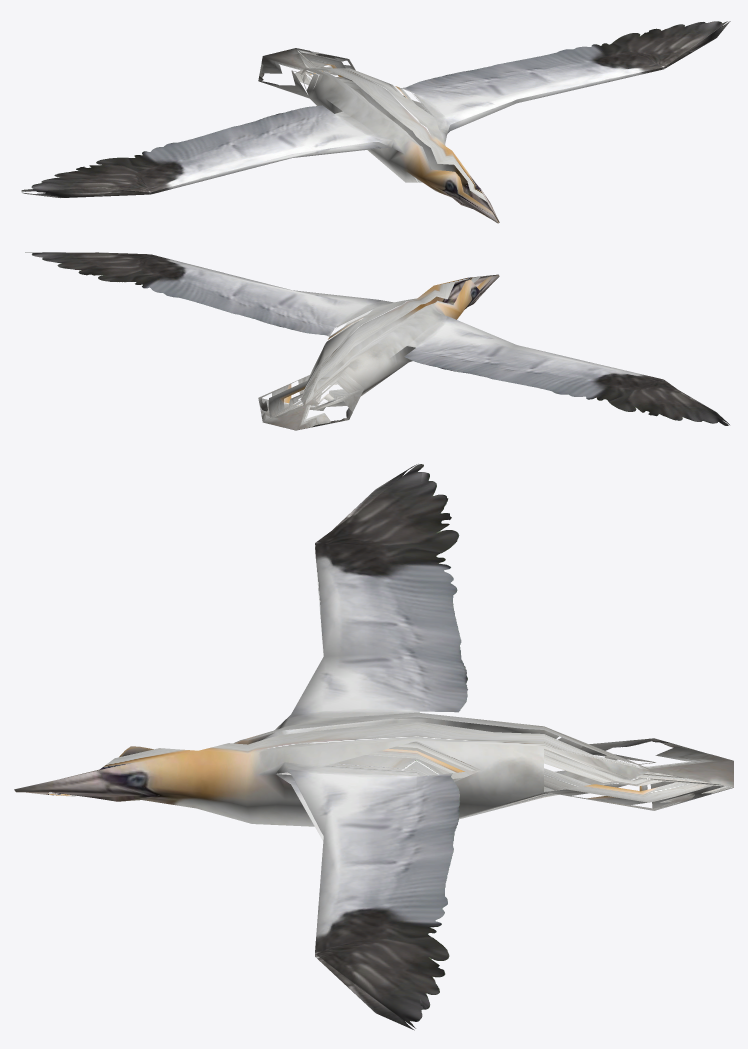
File: booby2.fbx
The picture shows the model from 3 angles, top to bottom: view 1: azimuth 30°, elevation 25°; view 2: azimuth 150°, elevation 25°; view 3: azimuth 270°, elevation 25°; orthographic projection. The views are drawn at different scales.
Parts seen in each view (by area): view 1: Alcatraz_Geometry; view 2: Alcatraz_Geometry; view 3: Alcatraz_Geometry.
Boxes of the visible parts, bbox=[...] form: Alcatraz_Geometry: bbox=[21, 21, 730, 223]; Alcatraz_Geometry: bbox=[25, 252, 729, 430]; Alcatraz_Geometry: bbox=[14, 464, 733, 1030].
Size of the model in its own units: 195 by 14.62 by 103.
